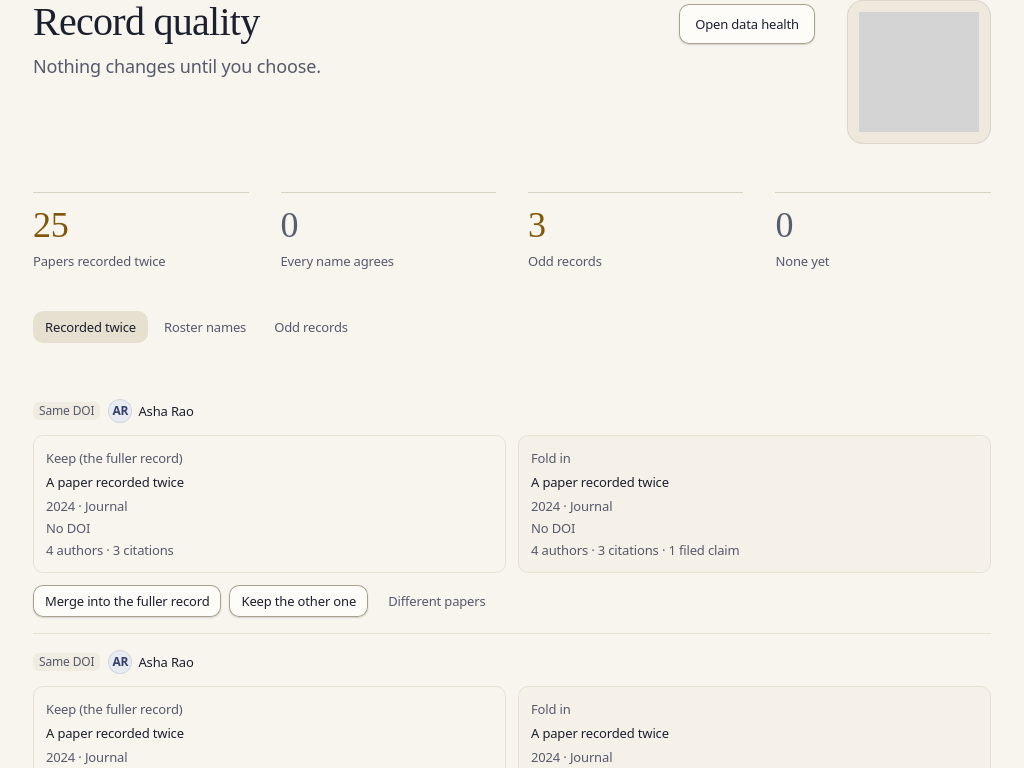
Scenario: record quality › counts each kind of problem above the list, and confirms a merge with what moves
This screenshot has width=1024, height=768.
Expected: the text "Papers recorded twice" is shown, [33, 252, 165, 270]
Expected: the text "Every name agrees" is shown, [280, 252, 394, 270]
Step 1. Click the button "Merge into the fuller record" → (127,601), box [33, 585, 222, 617]
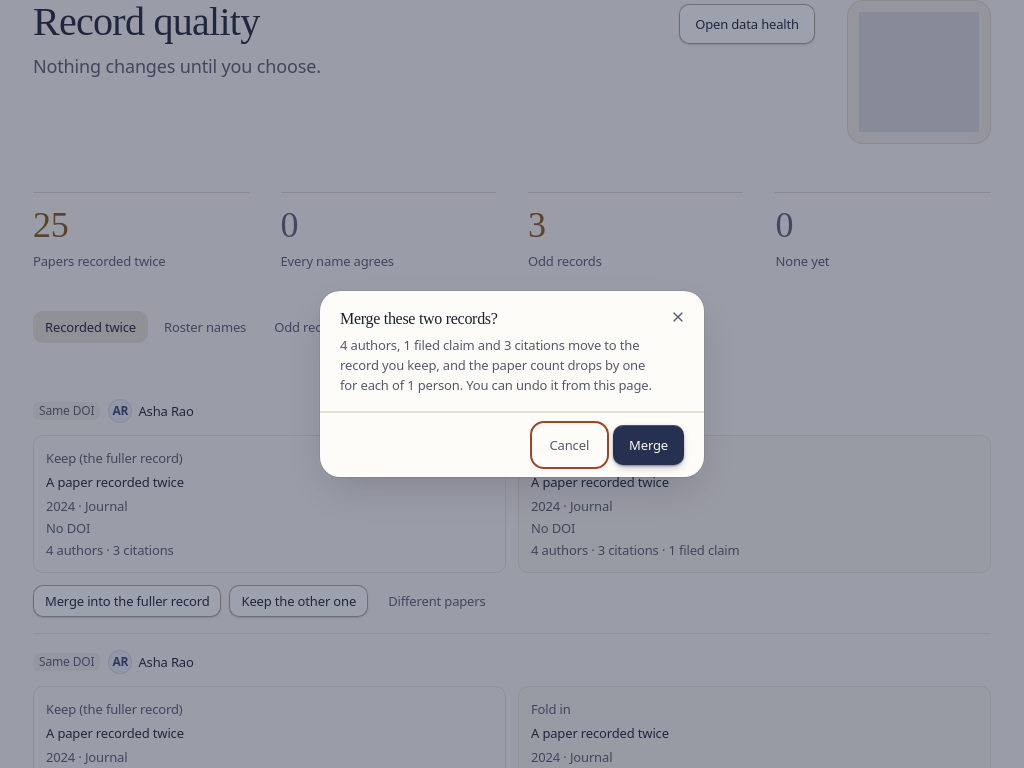
Expected: the text "4 authors, 1 filed claim and 3 citations move to the record you keep" is shown, [340, 336, 652, 394]
